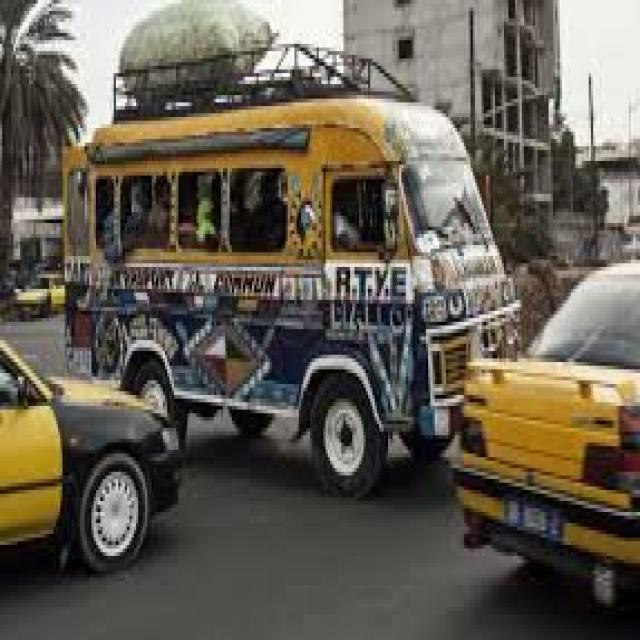car rapide: (66, 48, 517, 495)
taxi: (456, 263, 640, 608), (2, 341, 178, 571), (16, 286, 66, 319)
